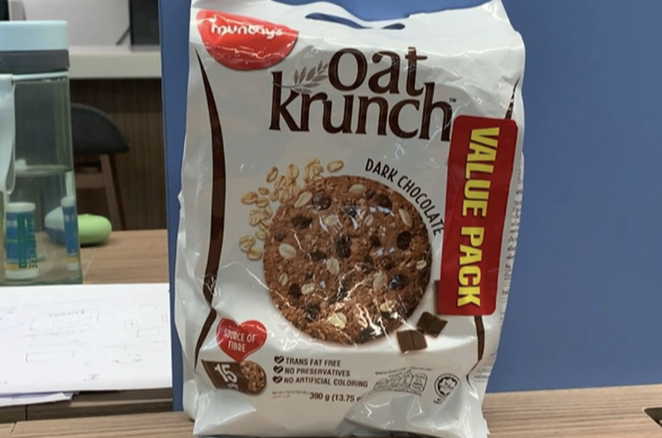cookies_150g: (201, 15, 492, 424)
